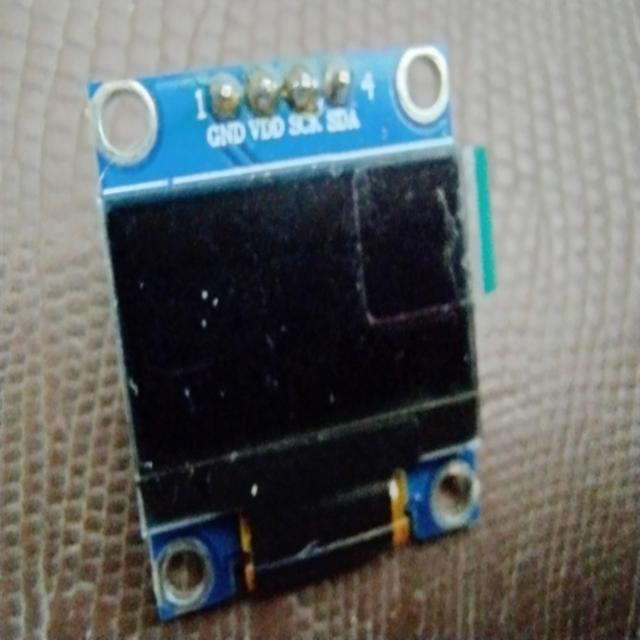oled: (79, 70, 504, 622)
